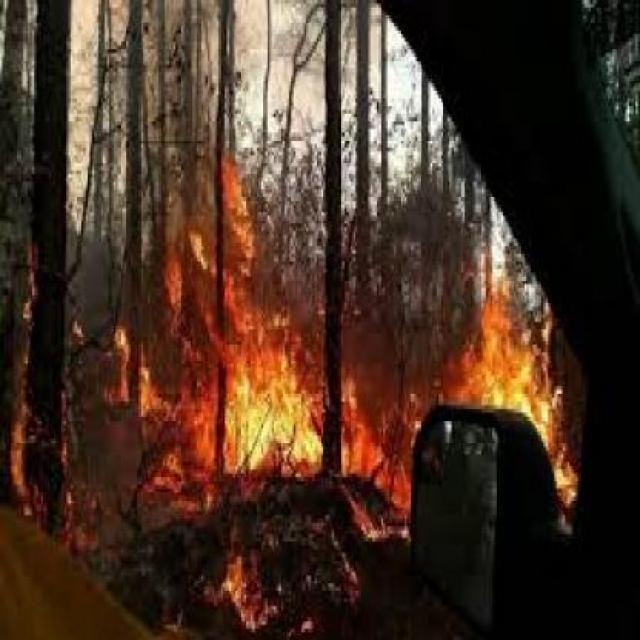Fire: (79, 221, 602, 554)
